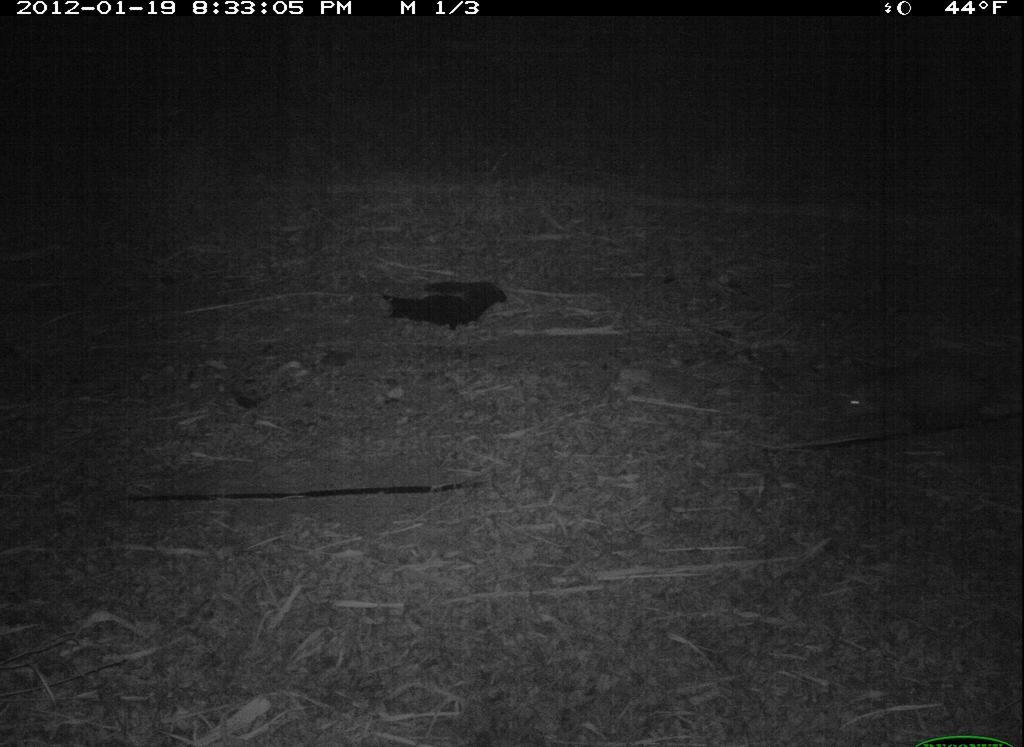opossum: (812, 344, 953, 451)
